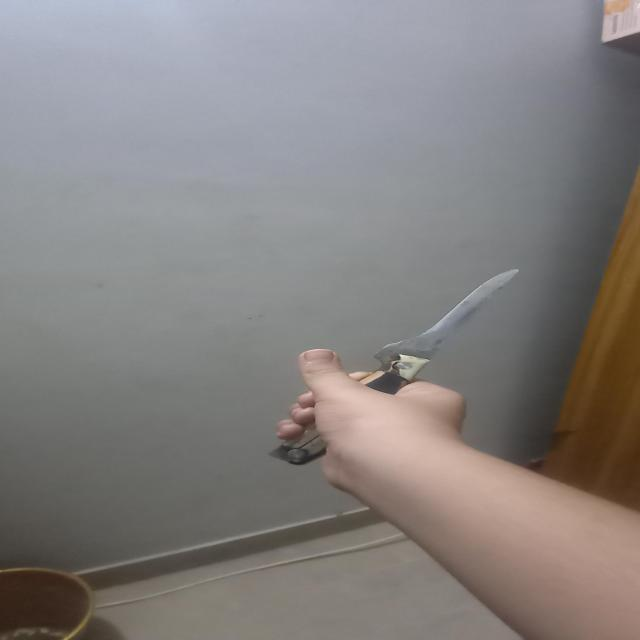Knife: (274, 269, 525, 464)
Person: (281, 351, 640, 640)
